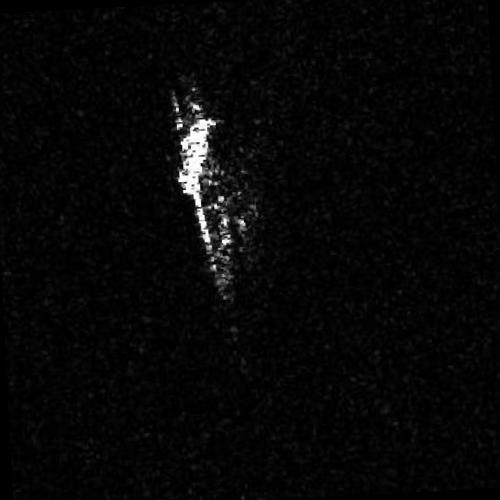ship: (167, 76, 233, 301)
